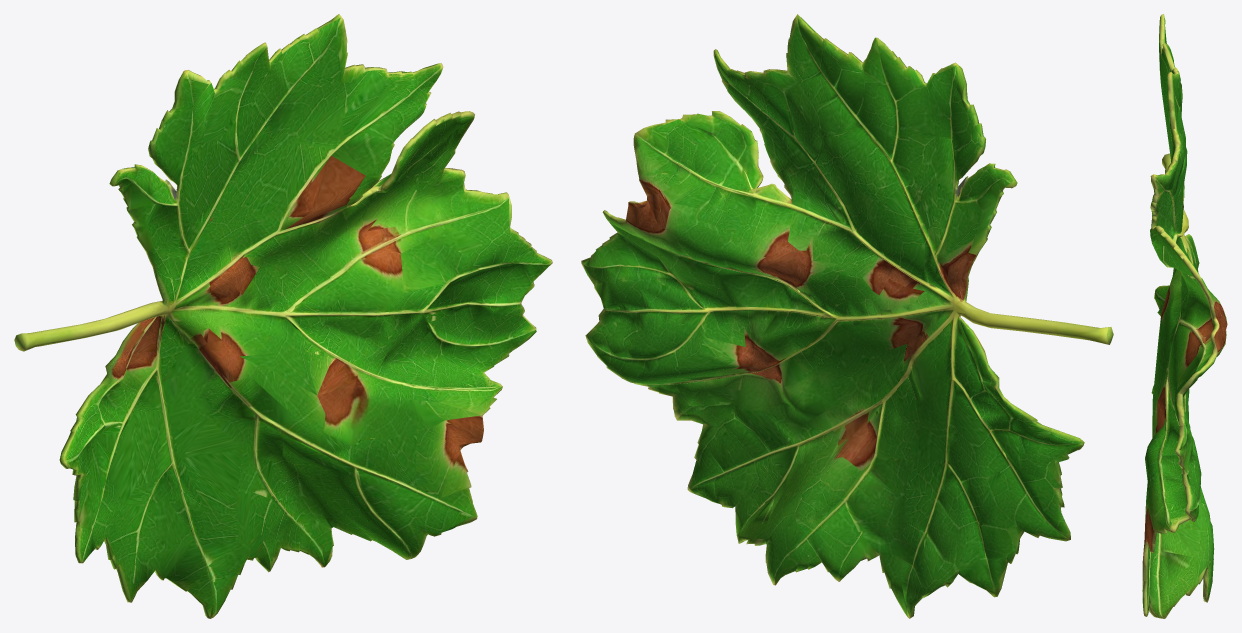
File: grape_black_rot.glb
The picture shows the model from 3 angles, left to right: view 1: azimuth 30°, elevation 25°; view 2: azimuth 150°, elevation 25°; view 3: azimuth 270°, elevation 25°; orthographic projection. The views are drawn at different scales.
Visible parts, largest first — view 1: grape_black_rot; view 2: grape_black_rot; view 3: grape_black_rot.
Boxes of the visible parts, x1,y1,x2,y2 form: grape_black_rot: (14, 14, 552, 618); grape_black_rot: (581, 14, 1113, 618); grape_black_rot: (1142, 14, 1227, 618).
Size of the model in its own units: 0.9702 by 1 by 0.1429.
Materials: 1 (1 with a texture image).
